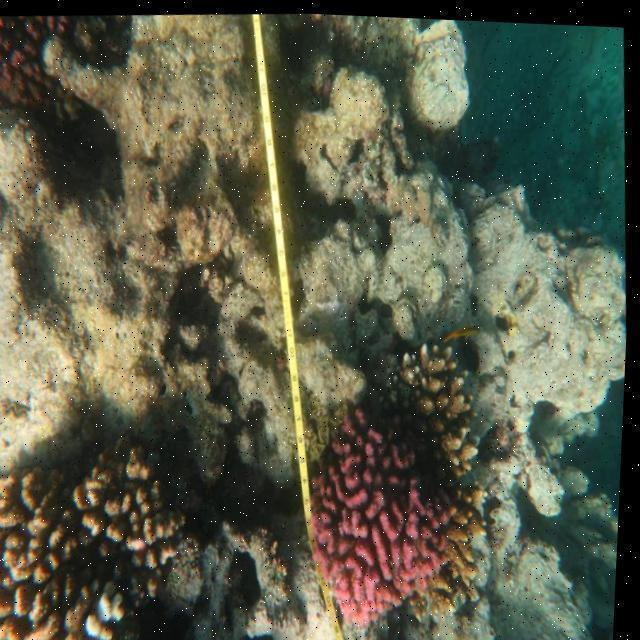Bleached Coral: (83, 585, 136, 640)
Healthy Coral: (310, 347, 487, 625), (67, 434, 181, 571), (0, 469, 72, 640), (0, 10, 122, 103)
